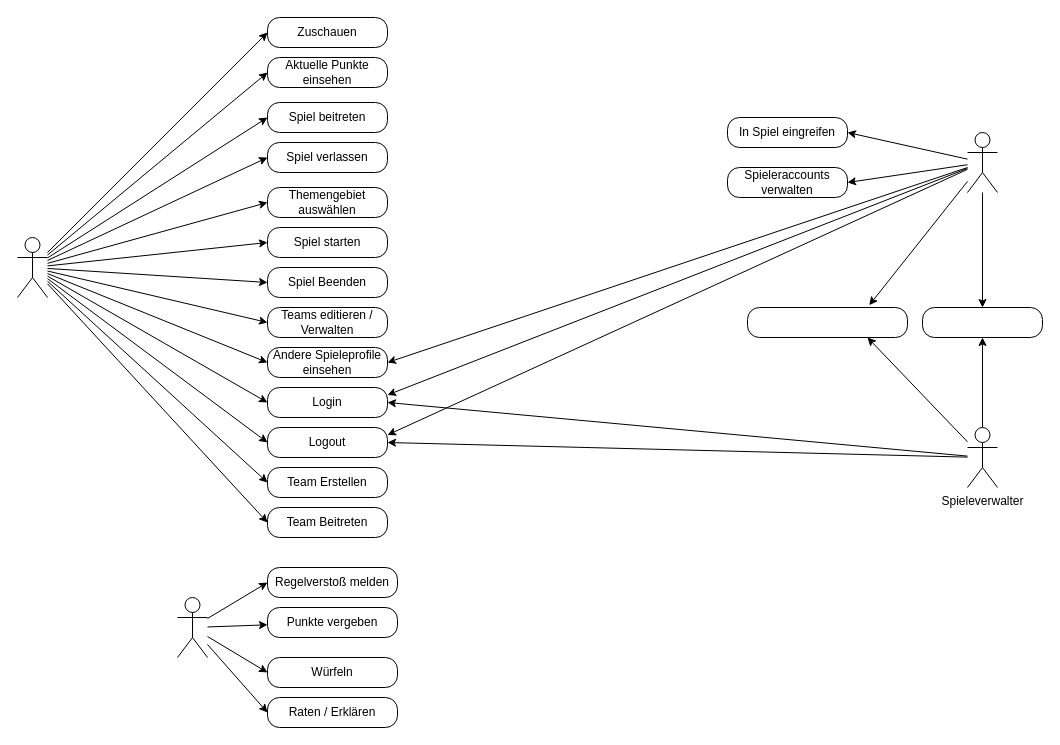
This 1060x745 diagram has some shape labels left out. Here are the shapes that lost their labels. From the top down, the centre of each, then its label:
[982,162]: Admin
[32,267]: User
[827,322]: aktuelle Spiele überwachen
[982,322]: Themengebiete verwalten
[192,627]: Team
